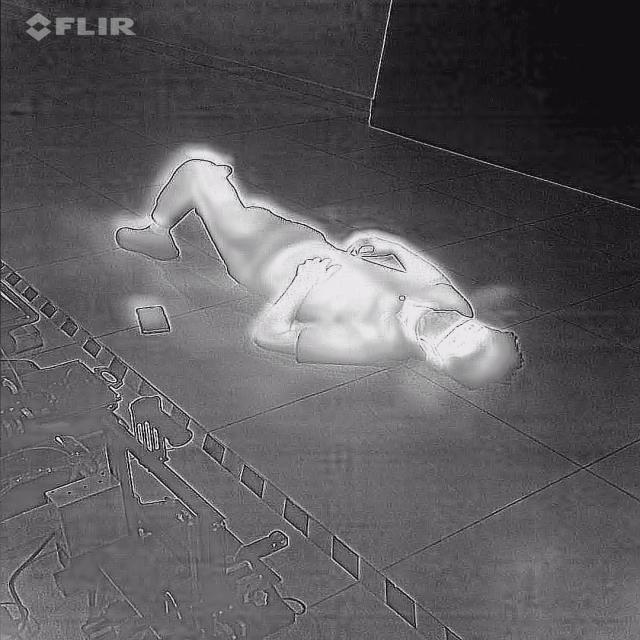Victim: (102, 135, 527, 401)
